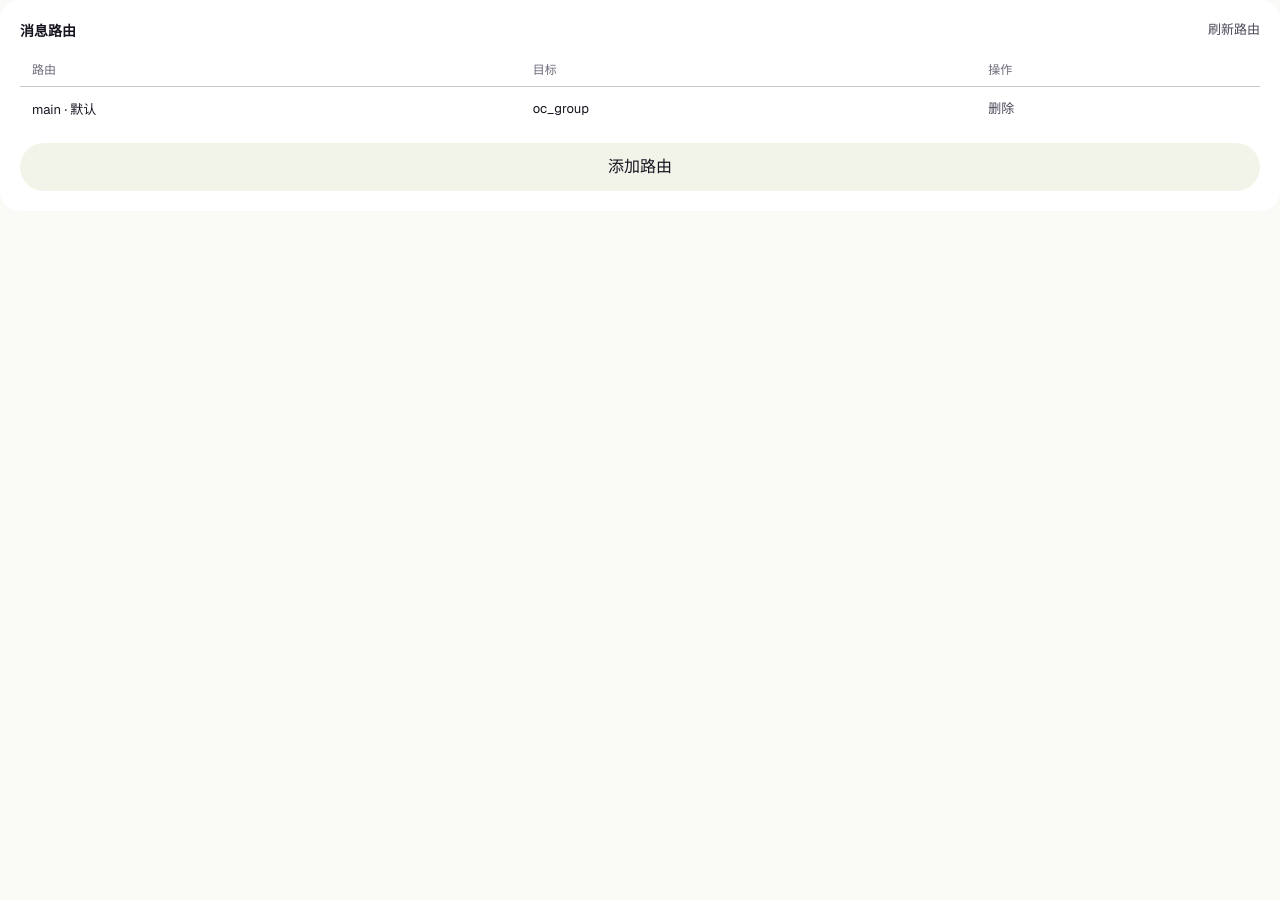
it: requires explicit confirmation before removing the default route
Later steps or results of the test are not shown.
Click the button with aria-label "删除 main": point(1001, 109) [988,99,1014,118]
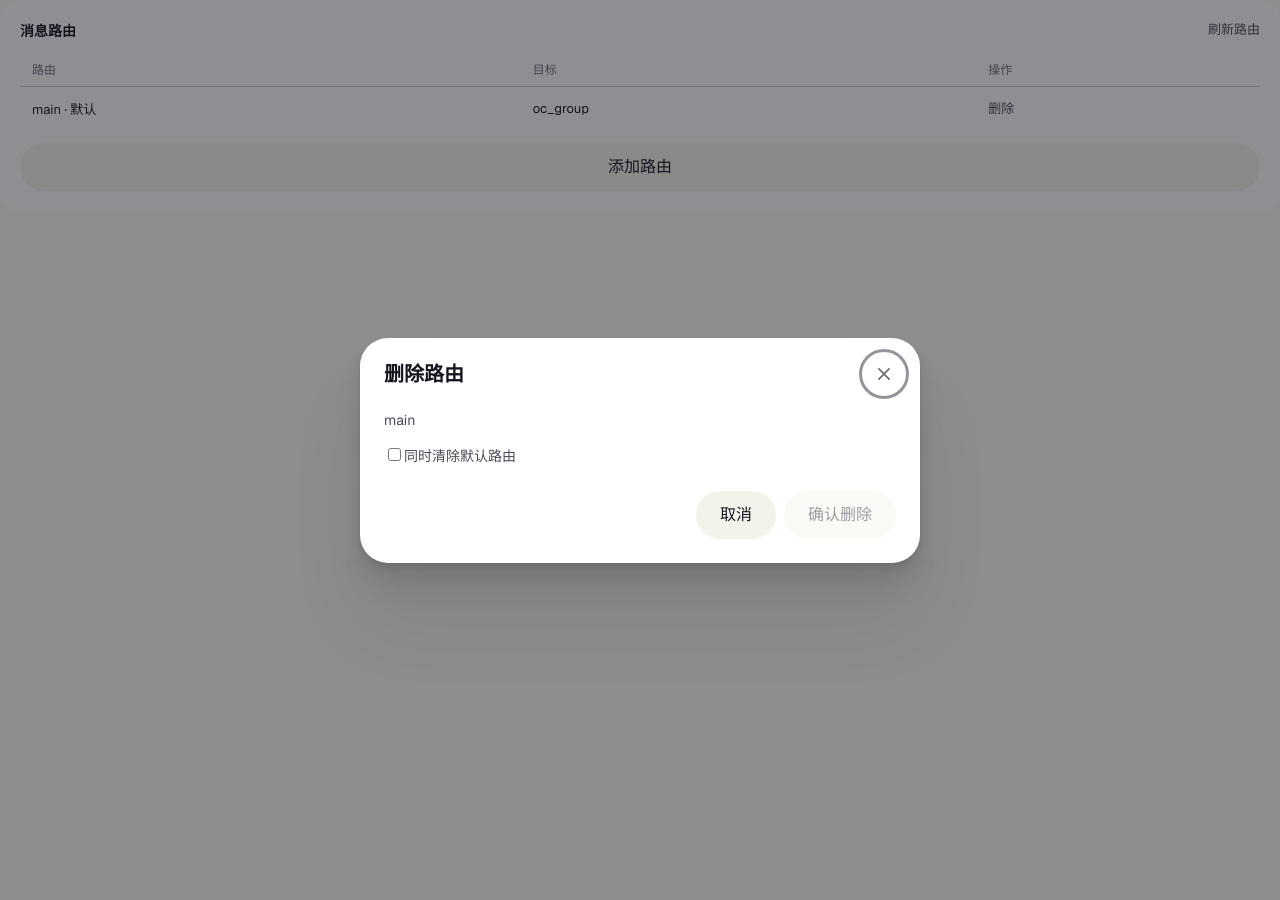
Check: the button "确认删除" is disabled, box [784,490,896,538]
